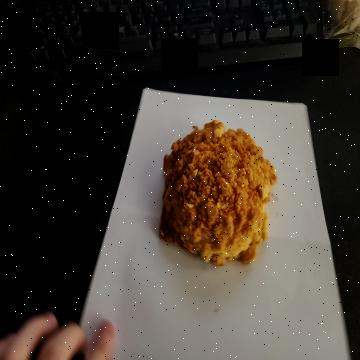soboru_bread: (162, 121, 277, 273)
